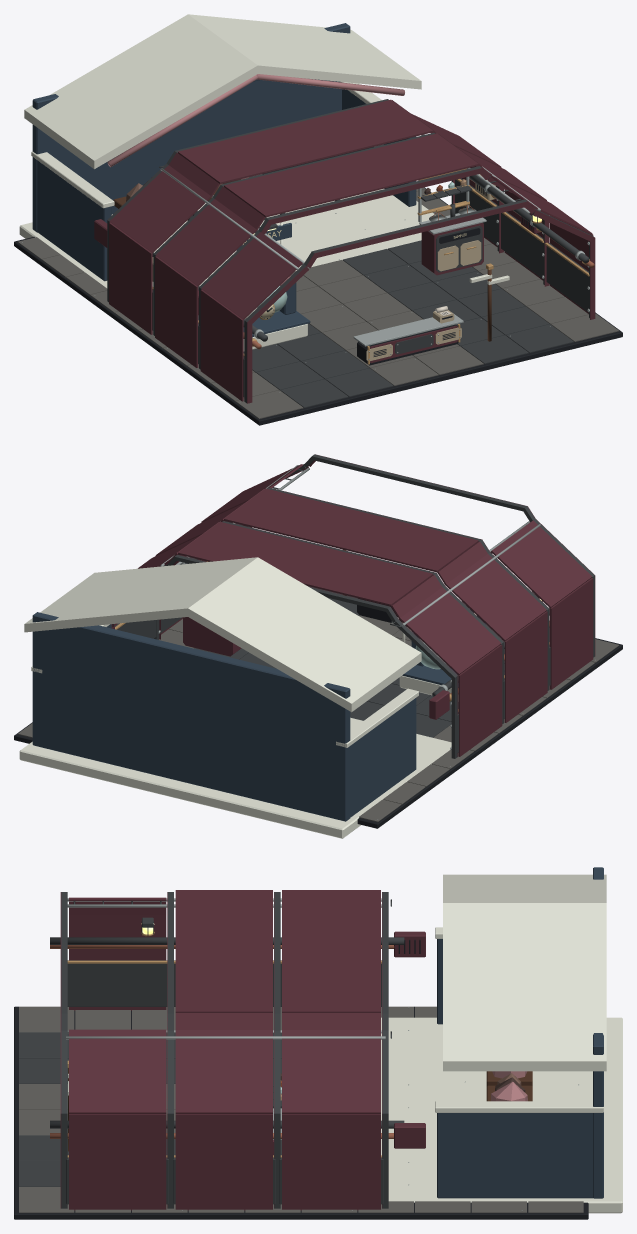
The model's file is brrrindle-assay.glb.
3 views of the same model, one above another, from view 1: azimuth 30°, elevation 25°; view 2: azimuth 150°, elevation 25°; view 3: azimuth 270°, elevation 25° (orthographic). The views are drawn at different scales.
Parts seen in each view (by area): view 1: brrrindle-assay; view 2: brrrindle-assay; view 3: brrrindle-assay.
Boxes of the visible parts, box(x1,y1,x2,y2) form: brrrindle-assay: box(14, 14, 622, 425); brrrindle-assay: box(14, 454, 622, 838); brrrindle-assay: box(14, 867, 622, 1219).
Size of the model in its own units: 17.08 by 8.36 by 21.15.
Materials: 23 (20 with a texture image).
